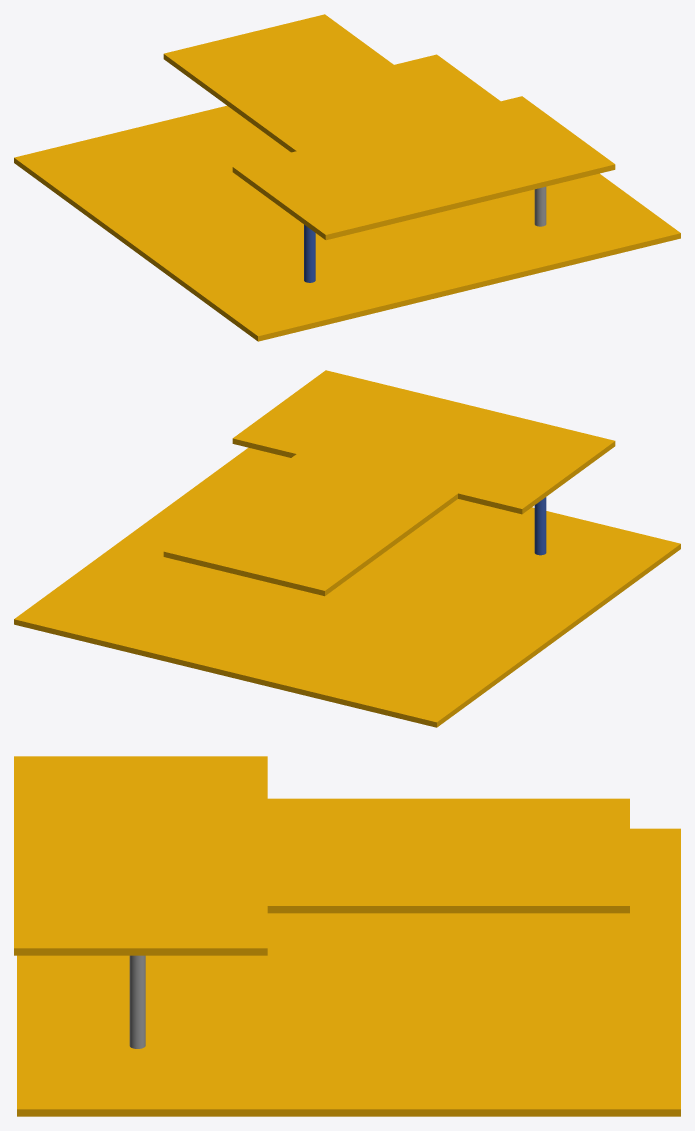
File: Morla chassis.dae
The picture shows the model from 3 angles, top to bottom: view 1: azimuth 30°, elevation 25°; view 2: azimuth 150°, elevation 25°; view 3: azimuth 270°, elevation 25°; orthographic projection. The views are drawn at different scales.
Visible parts, largest first — view 1: 60ff174628ccc05ebce222ba (×4); view 2: 60ff174628ccc05ebce222ba (×3); view 3: 60ff174628ccc05ebce222ba (×3).
Part boxes in pixels (x1,y1,x2,y2): 60ff174628ccc05ebce222ba (×4): [14, 14, 680, 341]; 60ff174628ccc05ebce222ba (×3): [14, 370, 680, 727]; 60ff174628ccc05ebce222ba (×3): [14, 756, 680, 1116].
Size of the model in its own units: 0.165 by 0.1657 by 0.034.
